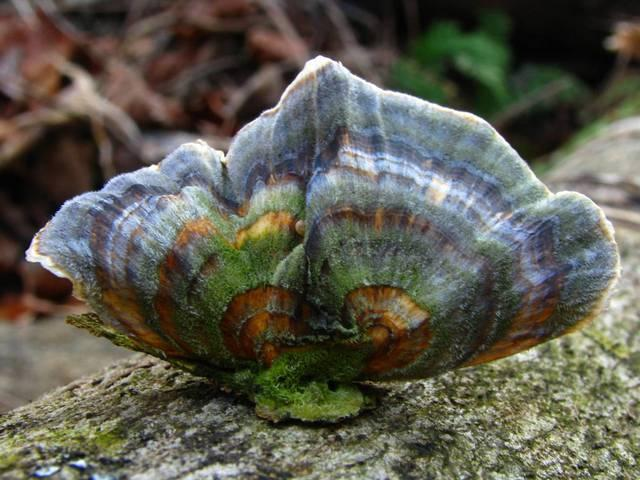Non-edible Mushroom: (23, 53, 622, 426)
